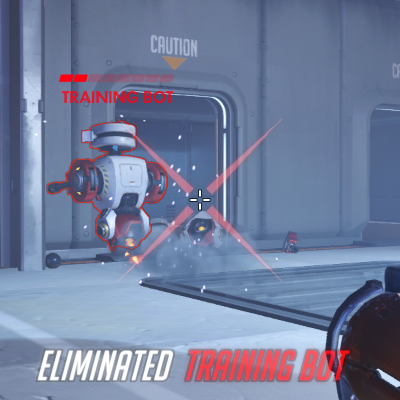hpbar: (59, 74, 175, 82)
